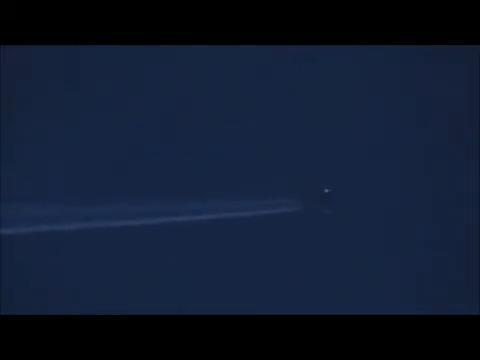Plane: (27, 176, 363, 249)
